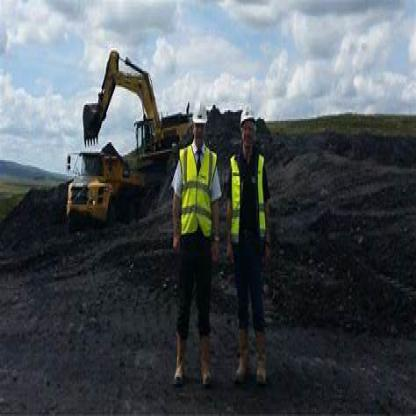person: (222, 89, 281, 398), (167, 62, 220, 395)
